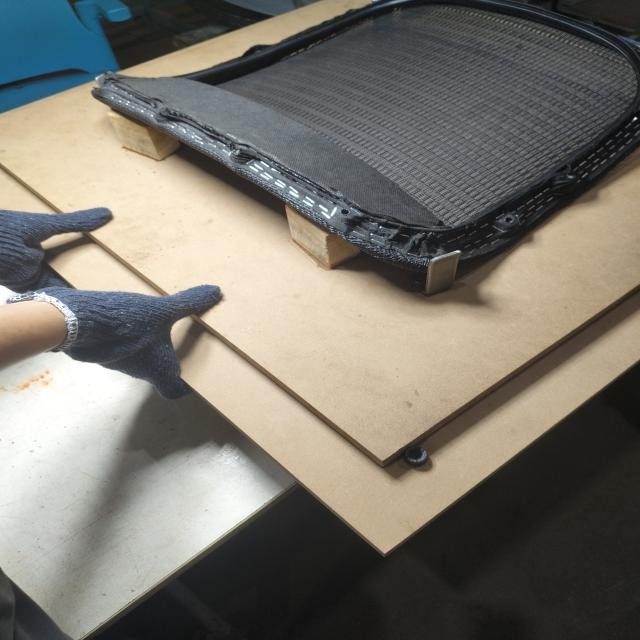Gloves-Detection: (30, 290, 236, 392), (1, 202, 110, 280)
